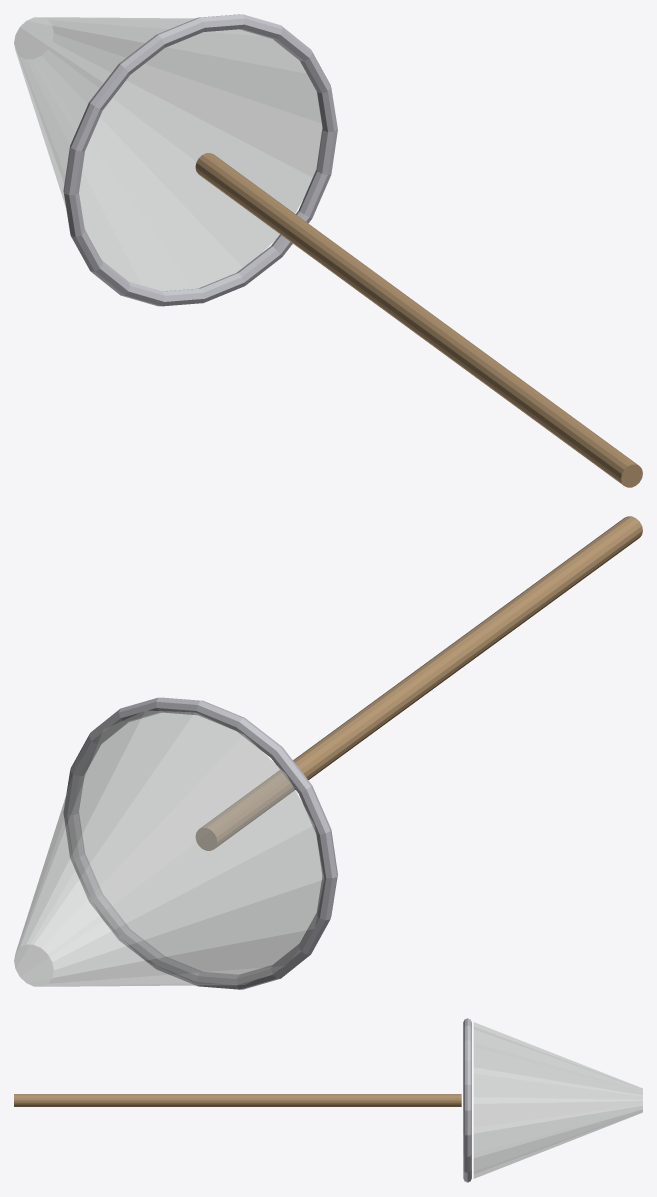
File: net.glb
3 views of the same model, one above another, from view 1: azimuth 30°, elevation 25°; view 2: azimuth 150°, elevation 25°; view 3: azimuth 270°, elevation 25° (orthographic). The views are drawn at different scales.
Visible parts, largest first — view 1: Cone, Cylinder, Torus.001; view 2: Cone, Cylinder, Torus.001; view 3: Cone, Cylinder, Torus.001.
Part boxes in pixels (left/top/right/bottom): Cone: left=14, top=17, right=322, bottom=291; Cylinder: left=195, top=153, right=642, bottom=487; Torus.001: left=63, top=14, right=337, bottom=306; Cone: left=14, top=710, right=324, bottom=986; Cylinder: left=196, top=516, right=642, bottom=850; Torus.001: left=63, top=697, right=337, bottom=989; Cone: left=473, top=1022, right=642, bottom=1178; Cylinder: left=14, top=1094, right=461, bottom=1106; Torus.001: left=463, top=1018, right=471, bottom=1182.
Size of the model in its own units: 0.274 by 0.274 by 1.04.
